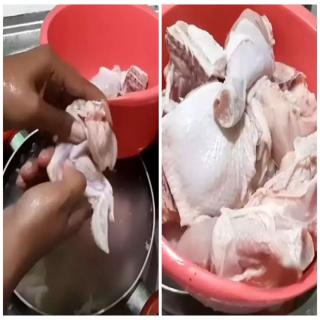Ayam: (164, 8, 318, 291), (47, 94, 119, 260)
